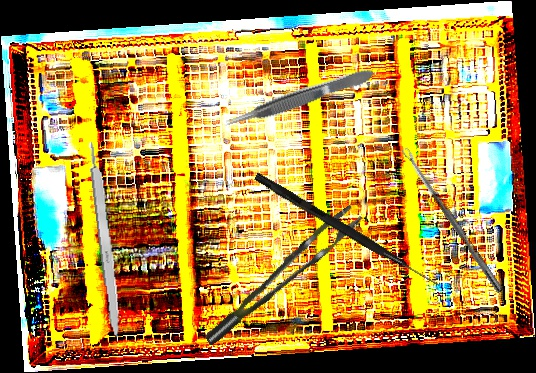Hook Surgical: (252, 172, 443, 289)
Scalpel Handle: (86, 140, 126, 342)
Surgical Spoon: (401, 146, 505, 294)
Tissue Forceps: (188, 203, 375, 346), (221, 66, 377, 132)
